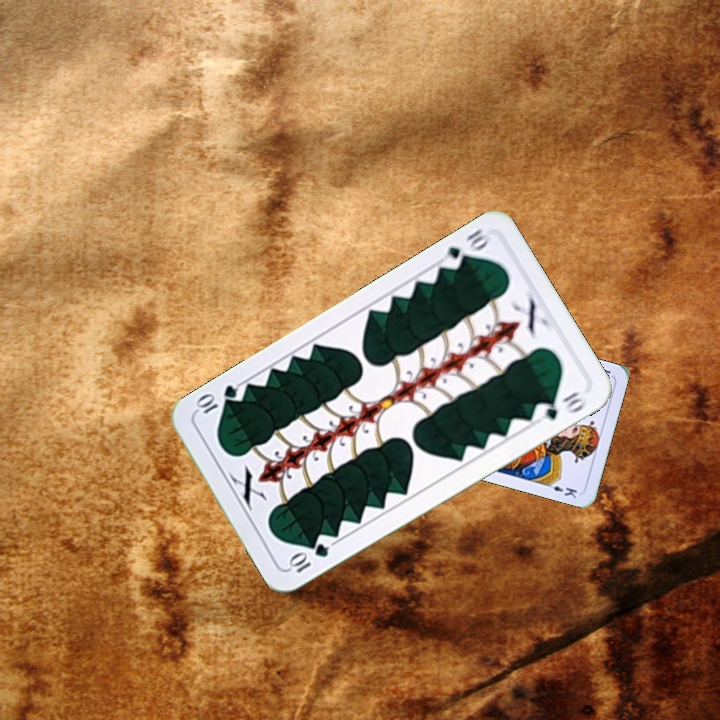G10: (437, 225, 494, 273), (285, 539, 332, 576)
